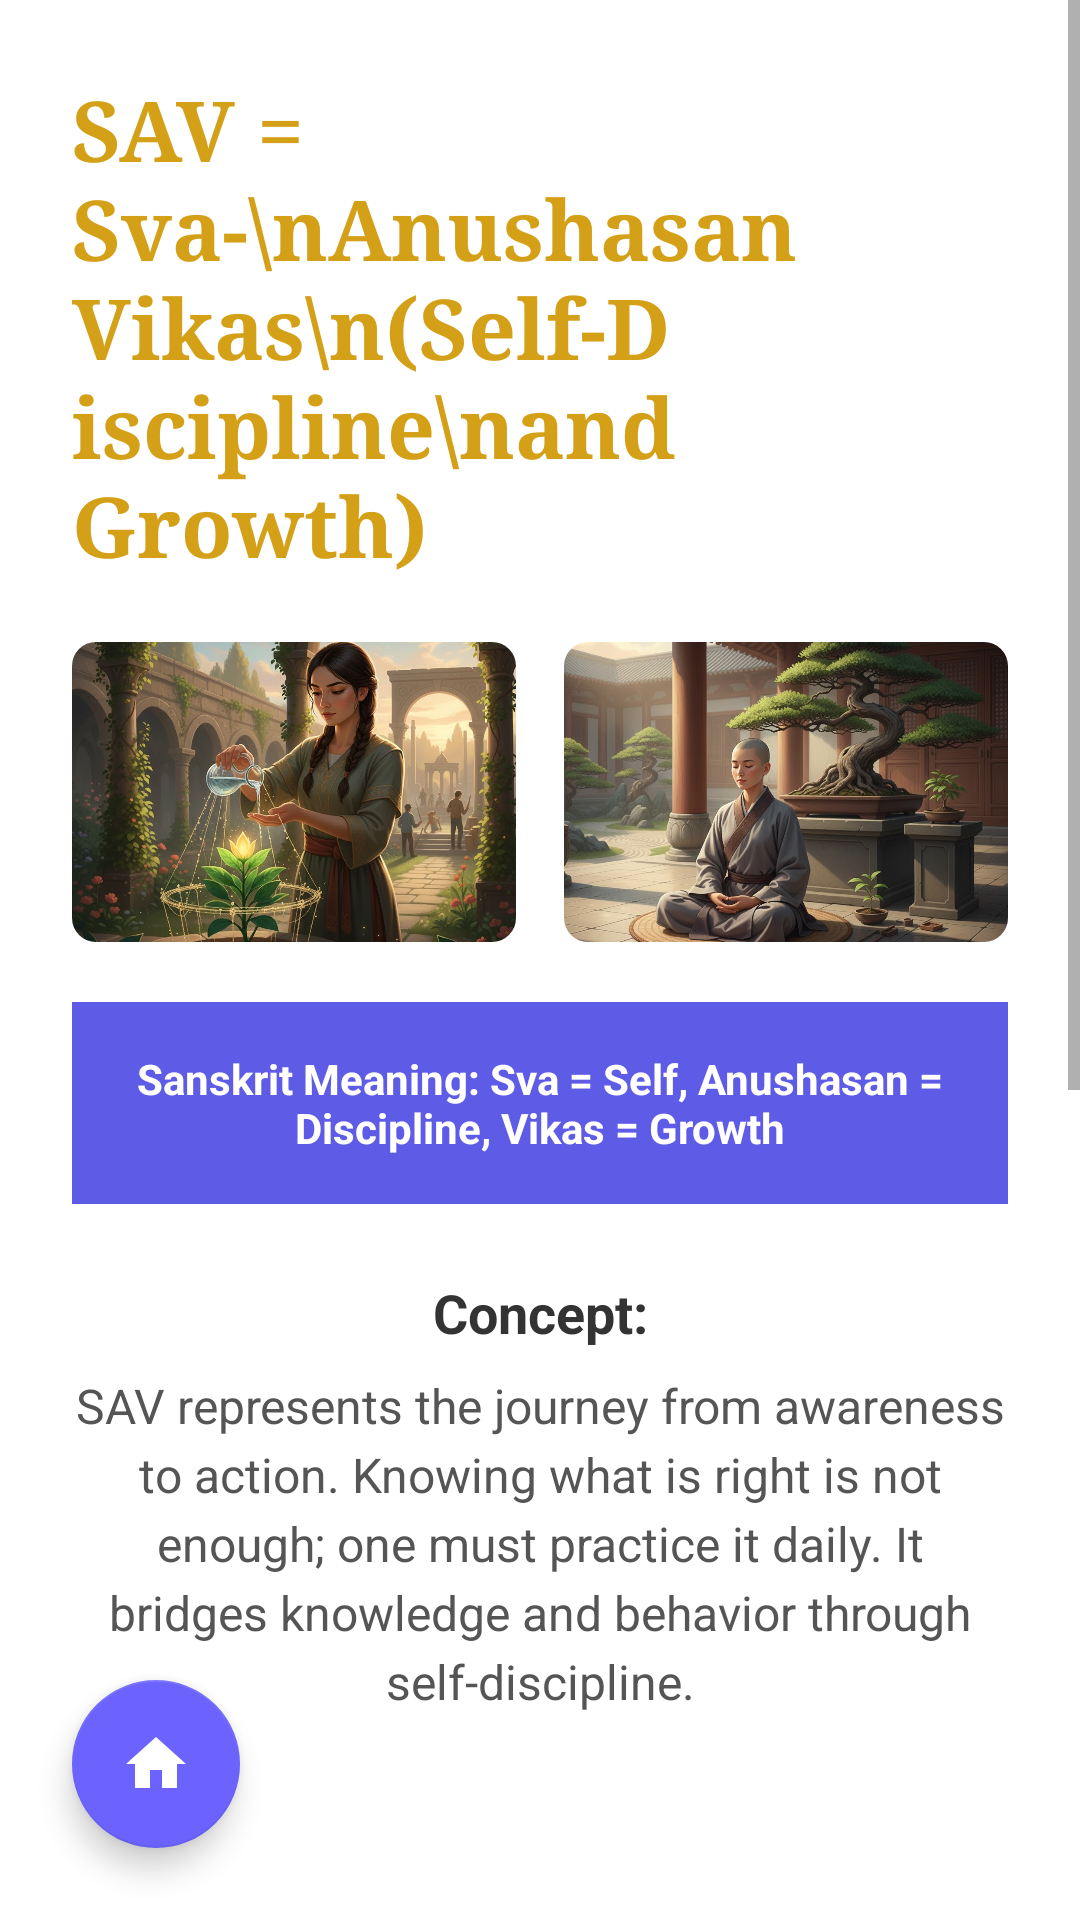

Locate icon controls on the screen. Image size 1080 x 1920, boxes as box=[x1, y1, x2, y2].
home: box=[72, 1680, 240, 1848]
